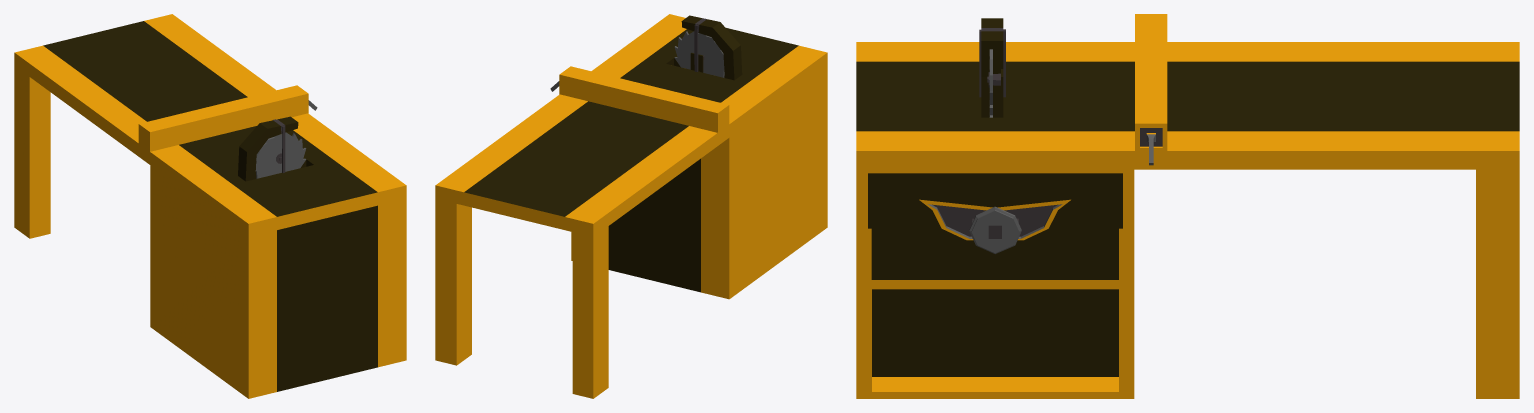
File: TableSaw(OneObject).fbx
3 renders of one model, left to right at view 1: azimuth 30°, elevation 25°; view 2: azimuth 150°, elevation 25°; view 3: azimuth 270°, elevation 25°, orthographic. The views are drawn at different scales.
Visible parts, largest first — view 1: Cube; view 2: Cube; view 3: Cube.
Boxes of the visible parts, x1,y1,x2,y2 form: Cube: [14, 14, 406, 398]; Cube: [435, 14, 827, 398]; Cube: [856, 14, 1519, 398].
Bounding box in the file's own units: 259 × 319 × 609.
